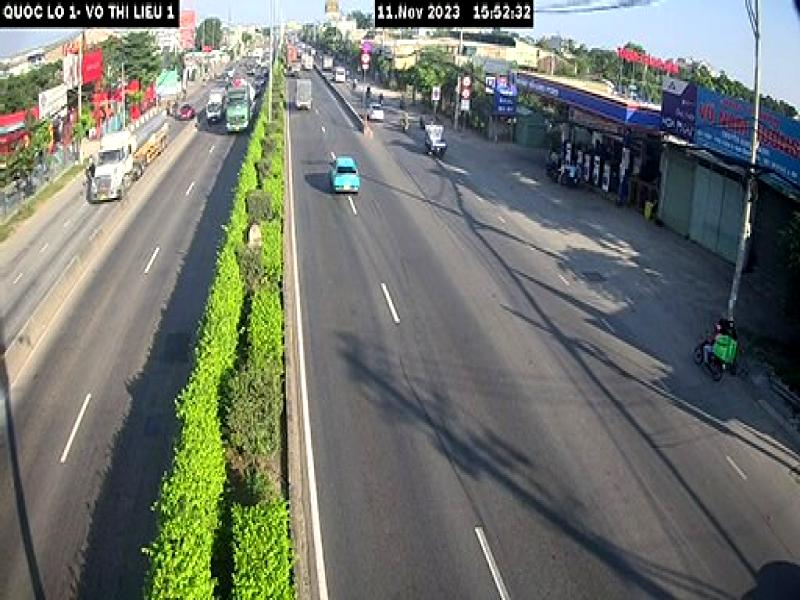truck: (86, 105, 173, 202)
